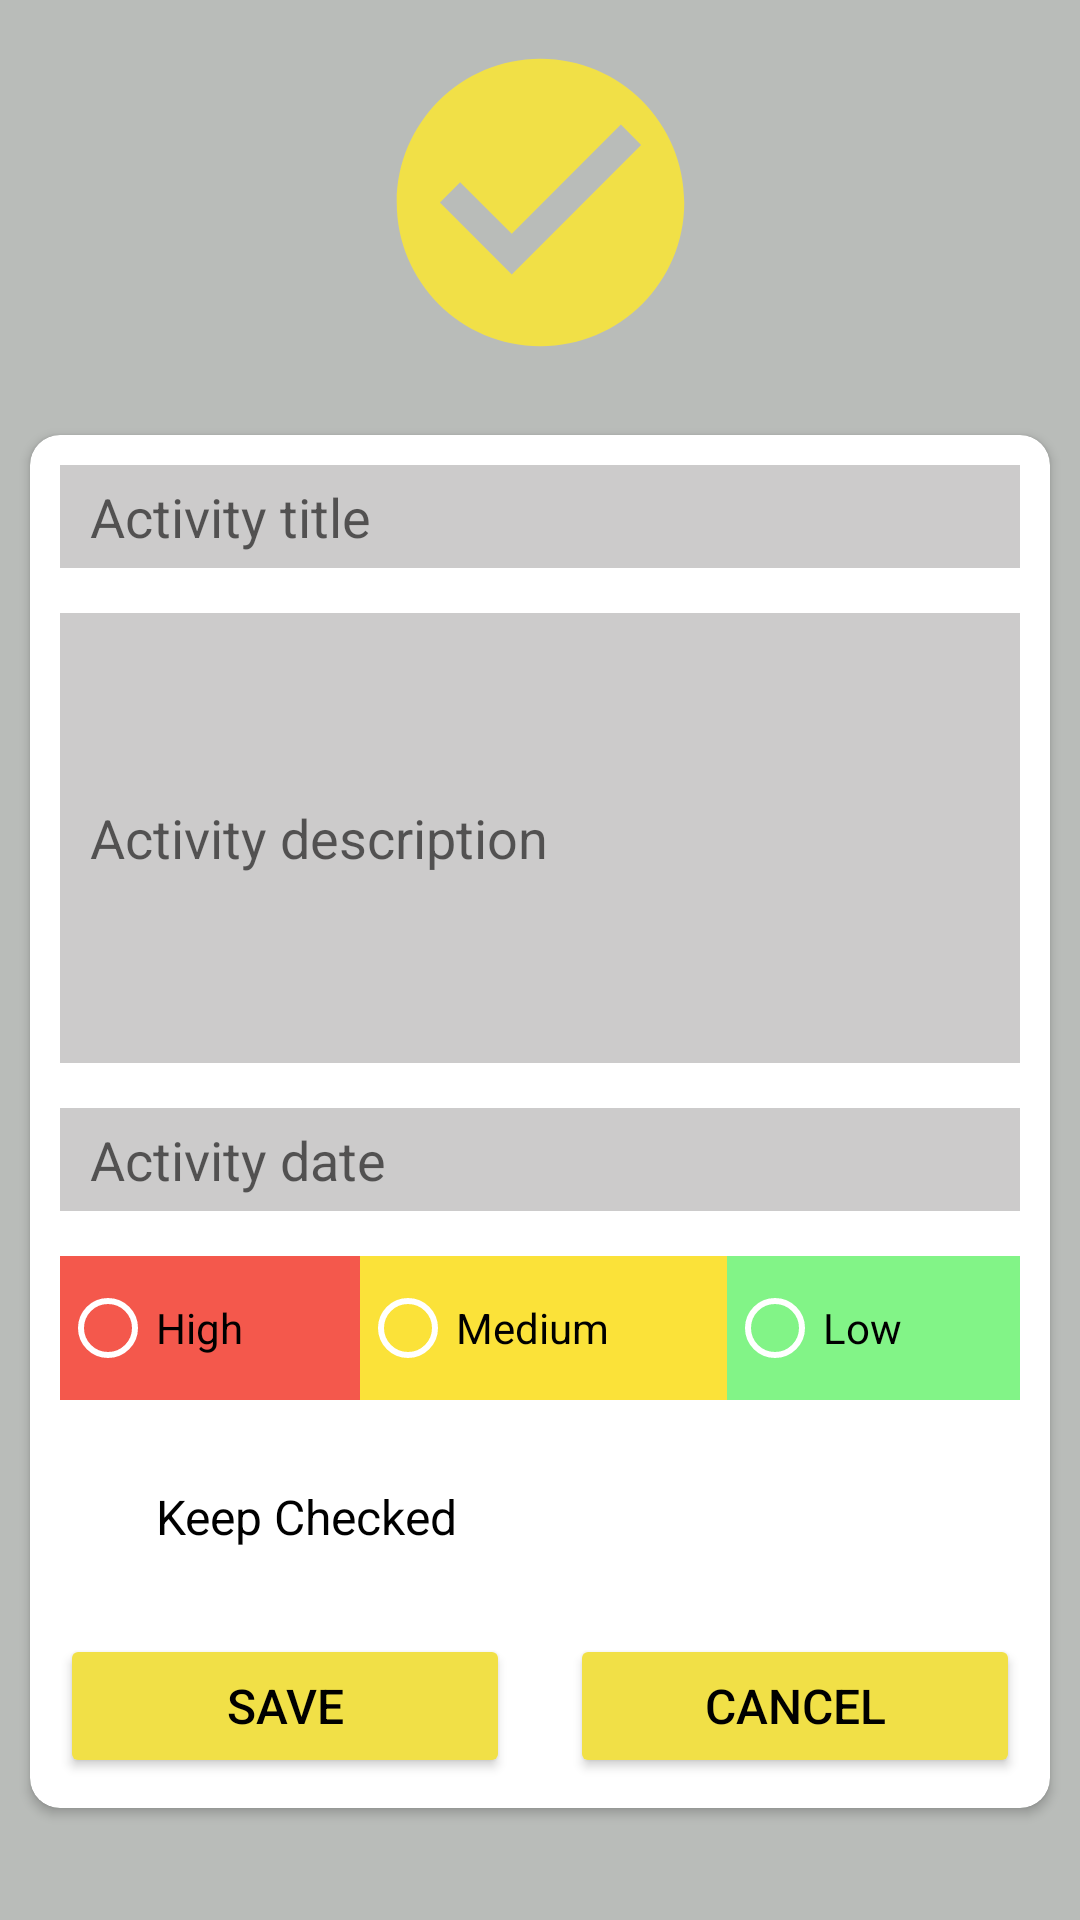

Point at icon controls on the screen. Image size 1080x1920, points as [x,y].
check circle: [540,202]
